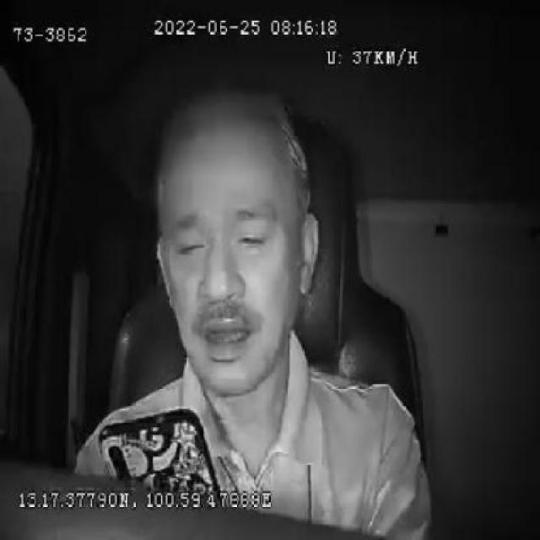phone: (100, 405, 219, 488)
